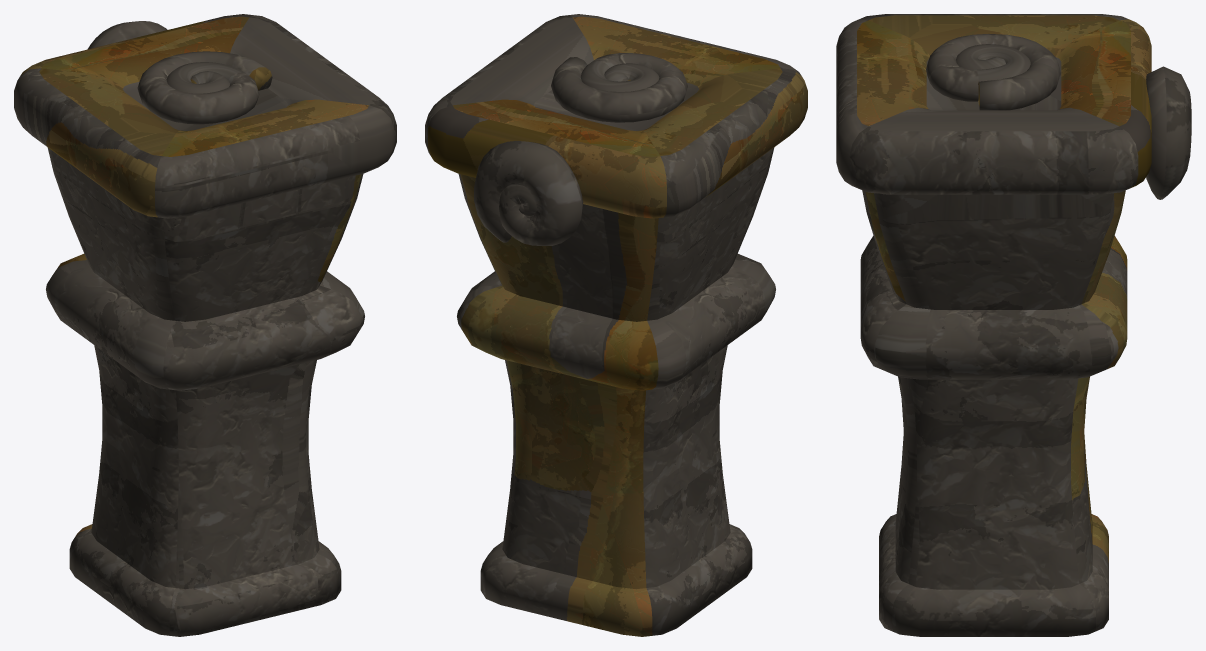
File: SM_PRP_ShellPillar.fbx
3 renders of one model, left to right at view 1: azimuth 30°, elevation 25°; view 2: azimuth 150°, elevation 25°; view 3: azimuth 270°, elevation 25°, orthographic. The views are drawn at different scales.
Visible parts, largest first — view 1: m_ShellPillar_low; view 2: m_ShellPillar_low; view 3: m_ShellPillar_low.
Part boxes in pixels (box(x1,y1,x2,y2)): m_ShellPillar_low: box(14, 14, 396, 636); m_ShellPillar_low: box(425, 14, 807, 636); m_ShellPillar_low: box(836, 14, 1191, 636).
Size of the model in its own units: 274 by 508 by 309.
